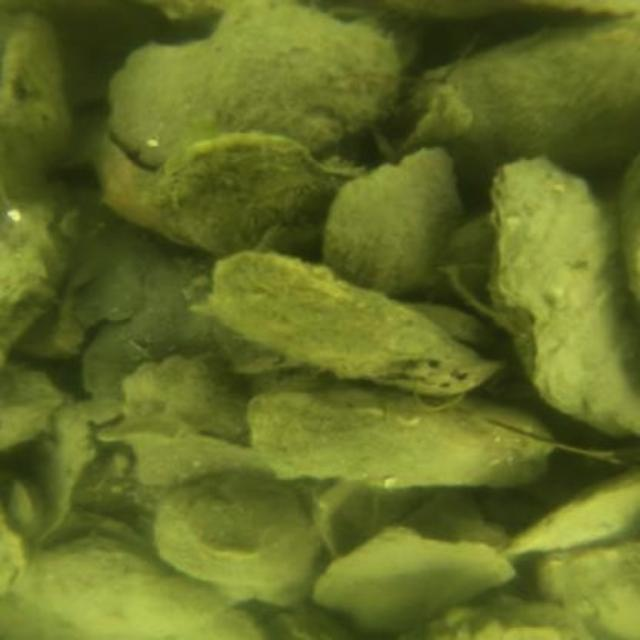Oyster-Closed: (105, 0, 402, 164), (484, 149, 640, 444), (207, 247, 503, 399), (409, 10, 638, 192), (244, 388, 561, 489), (6, 534, 272, 640), (144, 135, 373, 257), (152, 471, 319, 612), (318, 139, 464, 294), (0, 12, 79, 214), (500, 466, 638, 559), (7, 472, 46, 542)
